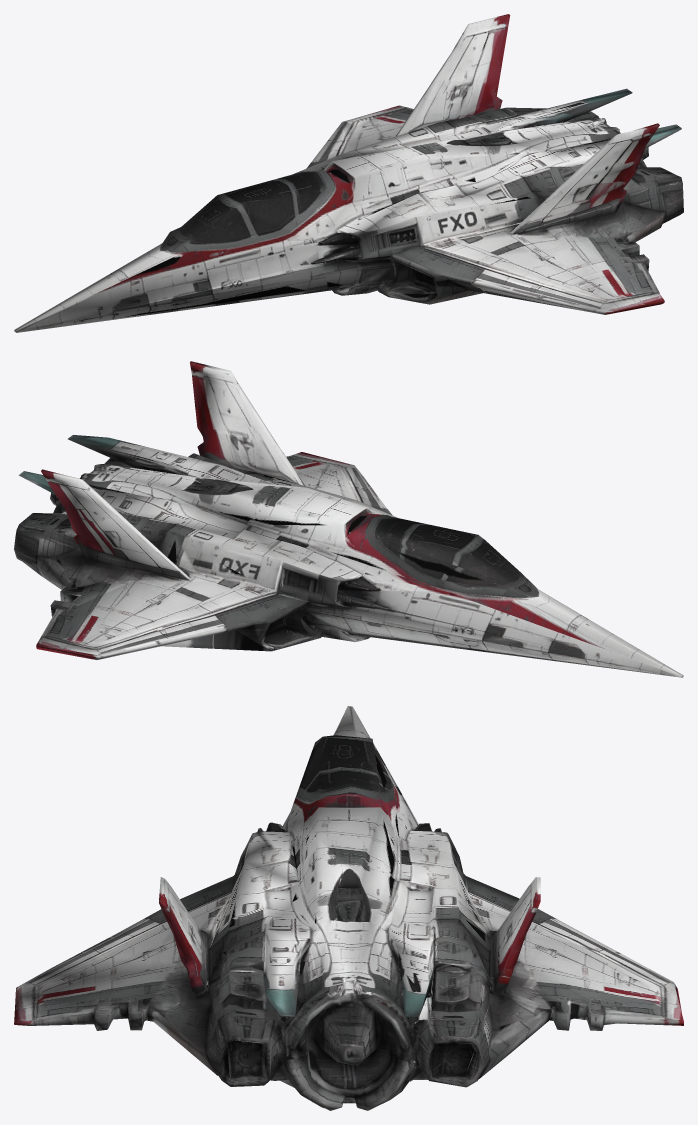
File: spaceship_fighter_simplify25.glb
The picture shows the model from 3 angles, top to bottom: view 1: azimuth 30°, elevation 25°; view 2: azimuth 150°, elevation 25°; view 3: azimuth 270°, elevation 25°; orthographic projection. The views are drawn at different scales.
Parts seen in each view (by area): view 1: Mesh1.0_Material.001_0; view 2: Mesh1.0_Material.001_0; view 3: Mesh1.0_Material.001_0.
Part boxes in pixels (<box>): Mesh1.0_Material.001_0: <box>14,14,683,332</box>; Mesh1.0_Material.001_0: <box>14,361,683,677</box>; Mesh1.0_Material.001_0: <box>14,706,683,1110</box>.
Size of the model in its own units: 1.91 by 0.4455 by 1.37.
1 material, 1 textured.
